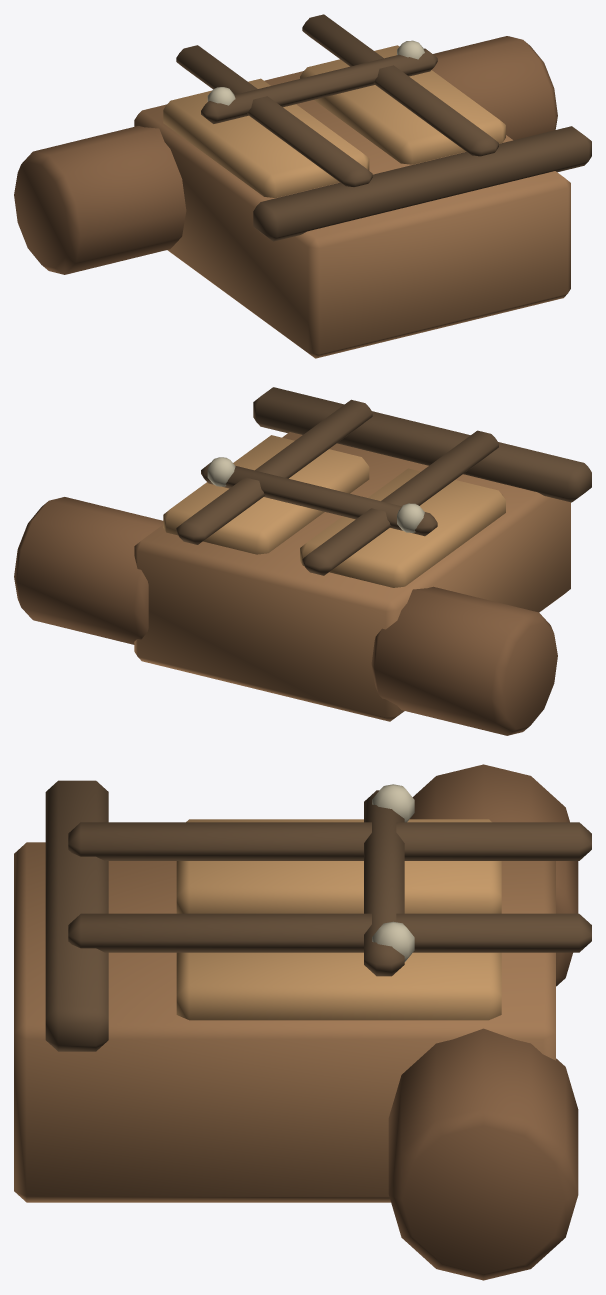
The model's file is armor_leather_armor.glb.
The picture shows the model from 3 angles, top to bottom: view 1: azimuth 30°, elevation 25°; view 2: azimuth 150°, elevation 25°; view 3: azimuth 270°, elevation 25°; orthographic projection. The views are drawn at different scales.
Visible parts, largest first — view 1: armor_leather_armor; view 2: armor_leather_armor; view 3: armor_leather_armor.
Boxes of the visible parts, x1,y1,x2,y2 form: armor_leather_armor: [14, 14, 591, 358]; armor_leather_armor: [14, 387, 591, 735]; armor_leather_armor: [14, 764, 591, 1280].
Bounding box in the file's own units: 0.93 × 0.315 × 0.64.
